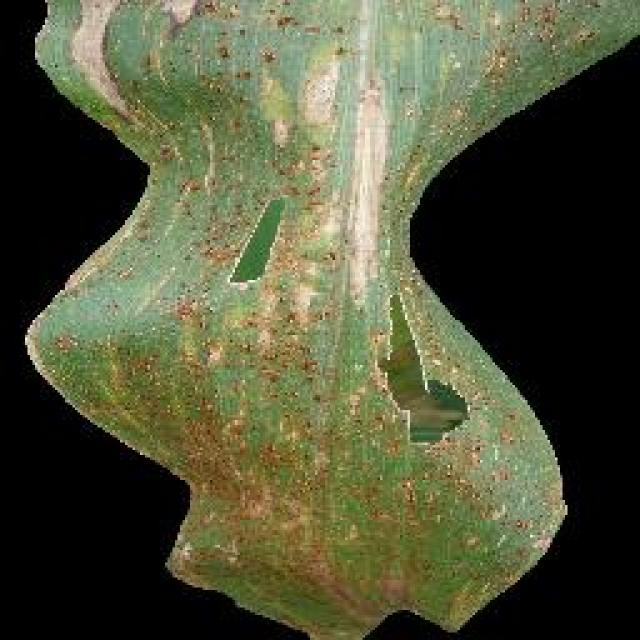Corn Common Rust: (133, 130, 542, 585)
